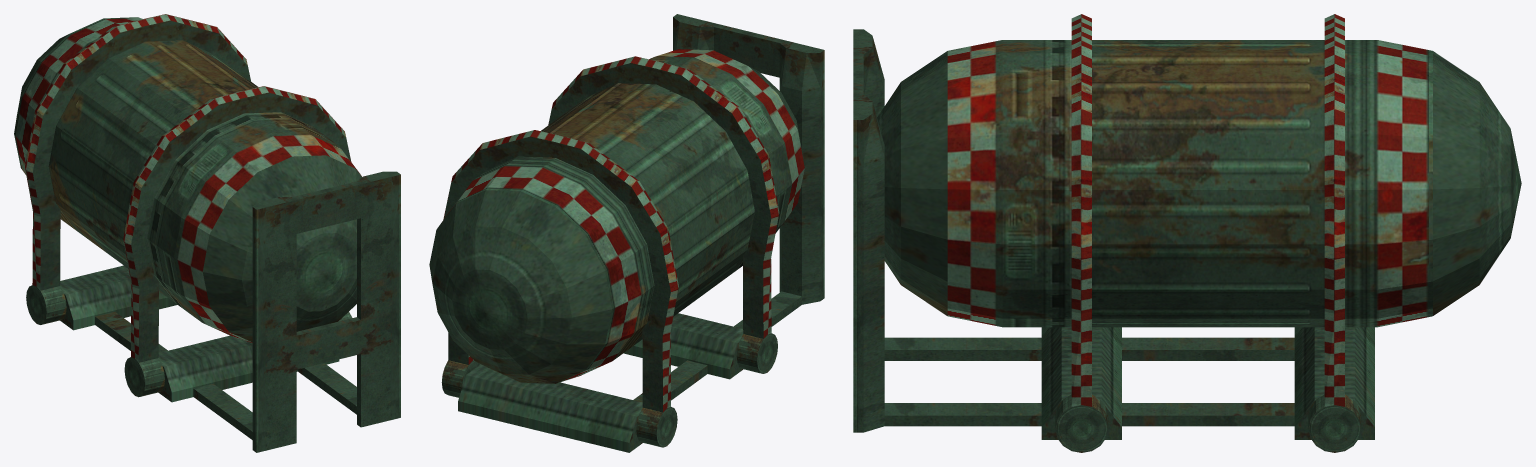
The model's file is tank1.gltf.
The picture shows the model from 3 angles, left to right: view 1: azimuth 30°, elevation 25°; view 2: azimuth 150°, elevation 25°; view 3: azimuth 270°, elevation 25°; orthographic projection. The views are drawn at different scales.
Visible parts, largest first — view 1: tank1(Clone); view 2: tank1(Clone); view 3: tank1(Clone).
Part boxes in pixels (box(x1,y1,x2,y2)): tank1(Clone): box(14, 14, 400, 452); tank1(Clone): box(429, 14, 824, 452); tank1(Clone): box(853, 14, 1521, 452).
Bounding box in the file's own units: 2.57 × 2.95 × 4.98.
Materials: 1 (1 with a texture image).
